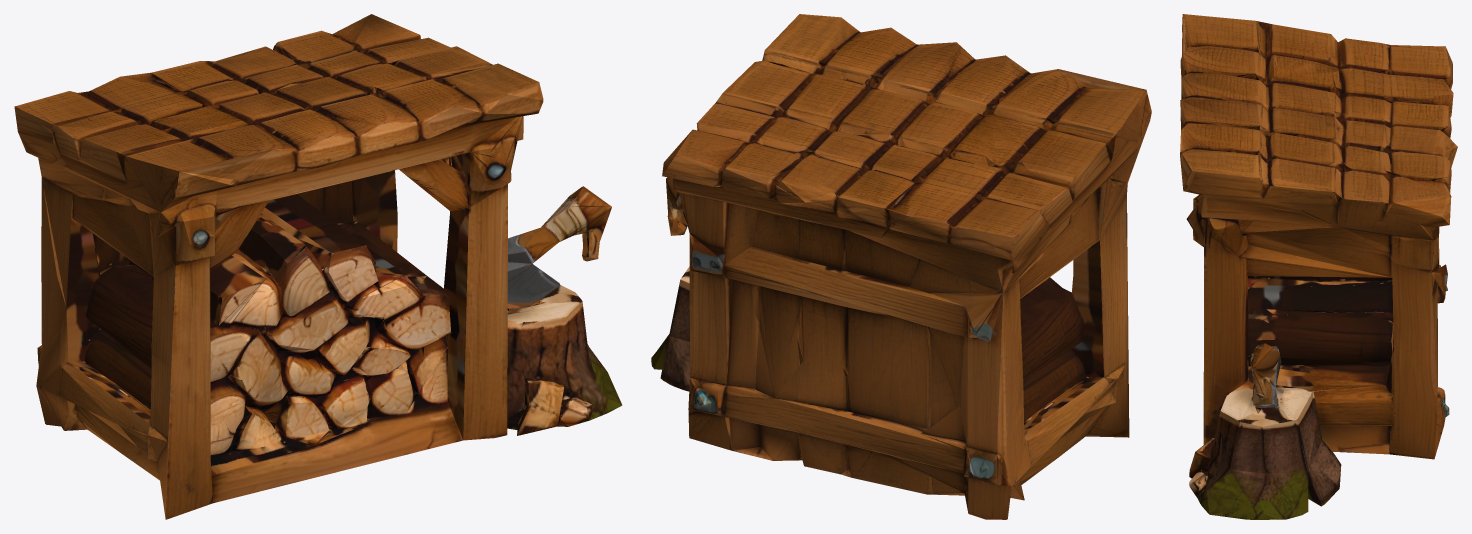
File: ck_woodpile.glb
3 renders of one model, left to right at view 1: azimuth 30°, elevation 25°; view 2: azimuth 150°, elevation 25°; view 3: azimuth 270°, elevation 25°, orthographic. The views are drawn at different scales.
Parts seen in each view (by area): view 1: ck_woodpile; view 2: ck_woodpile; view 3: ck_woodpile.
Part boxes in pixels (bbox=[...]): ck_woodpile: bbox=[14, 14, 622, 519]; ck_woodpile: bbox=[651, 14, 1151, 519]; ck_woodpile: bbox=[1180, 14, 1457, 519].
Size of the model in its own units: 1.97 by 1.4 by 1.14.
1 material, 1 textured.
